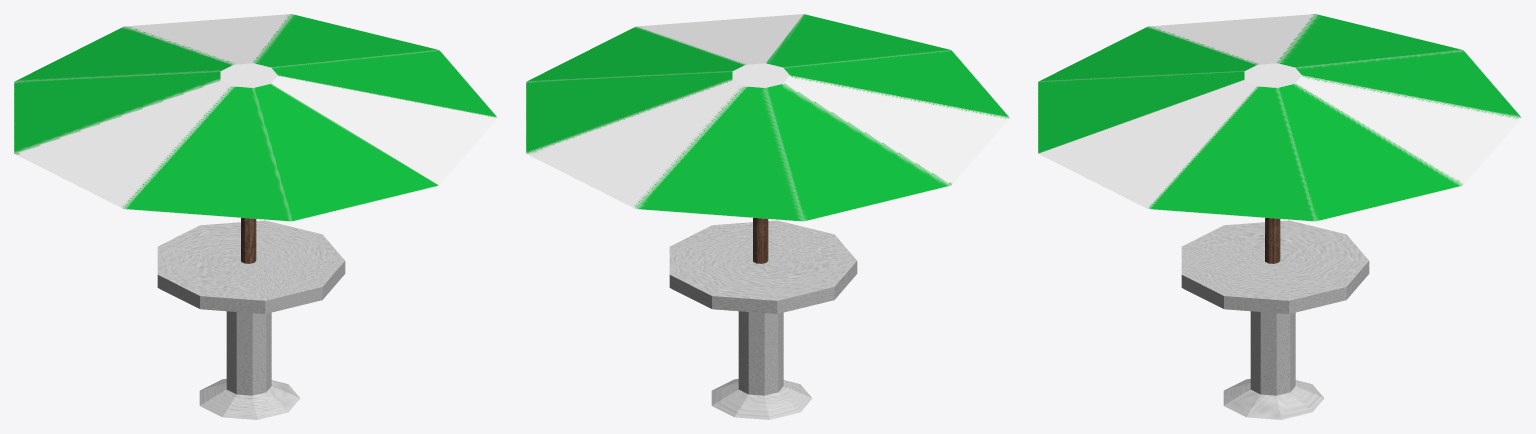
Rendered from table.fbx.
3 renders of one model, left to right at view 1: azimuth 30°, elevation 25°; view 2: azimuth 150°, elevation 25°; view 3: azimuth 270°, elevation 25°, orthographic.
Parts seen in each view (by area): view 1: Cylinder; view 2: Cylinder; view 3: Cylinder.
Part boxes in pixels (bbox=[...]): Cylinder: bbox=[14, 14, 497, 419]; Cylinder: bbox=[526, 14, 1009, 419]; Cylinder: bbox=[1038, 14, 1521, 419].
Size of the model in its own units: 1058 by 767 by 1042.
1 material, 1 textured.
